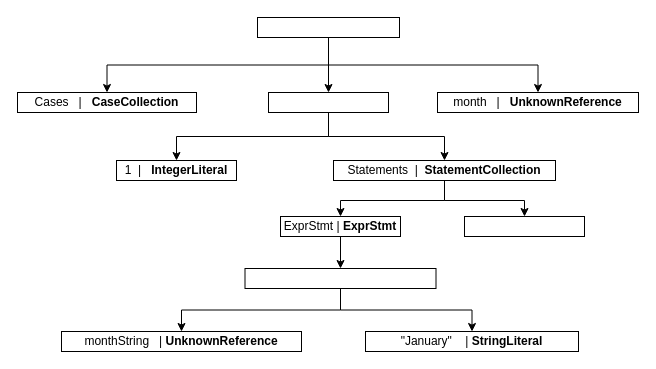
Some shapes in this 656 by 369 pixel diagram are drawn without their labels. The centre of each missing label's shape, as x and y in pixels:
"AssginExpr | AssignExpr" goes at [340,278].
"break | BreakStmt" goes at [524,226].
"case | Case" goes at [328,102].
"switch | SwitchStmt" goes at [328,27].
